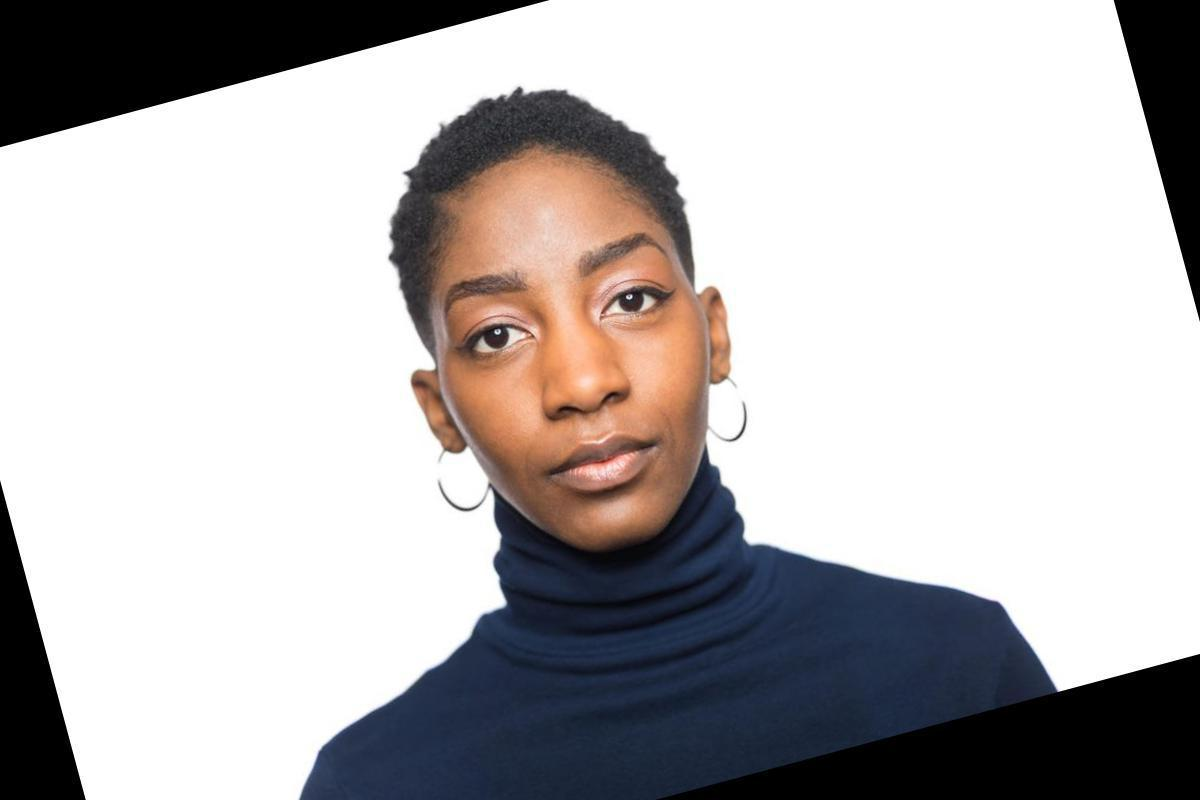Sober: (441, 205, 705, 517)
